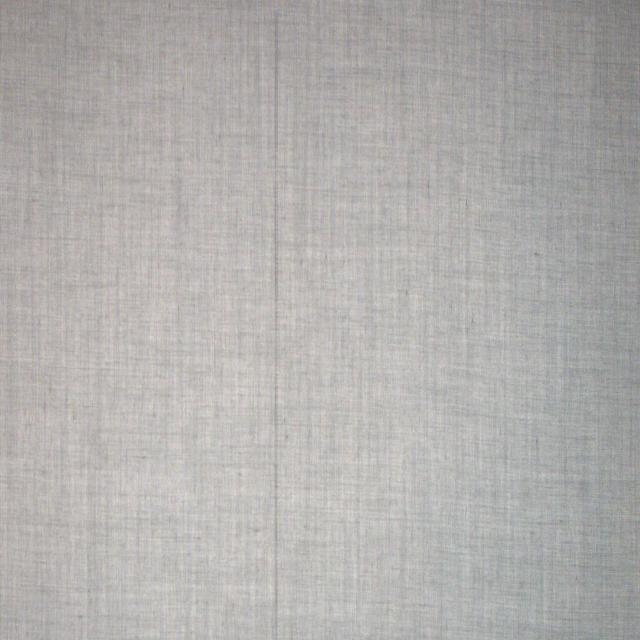dirty: (577, 479, 588, 498)
